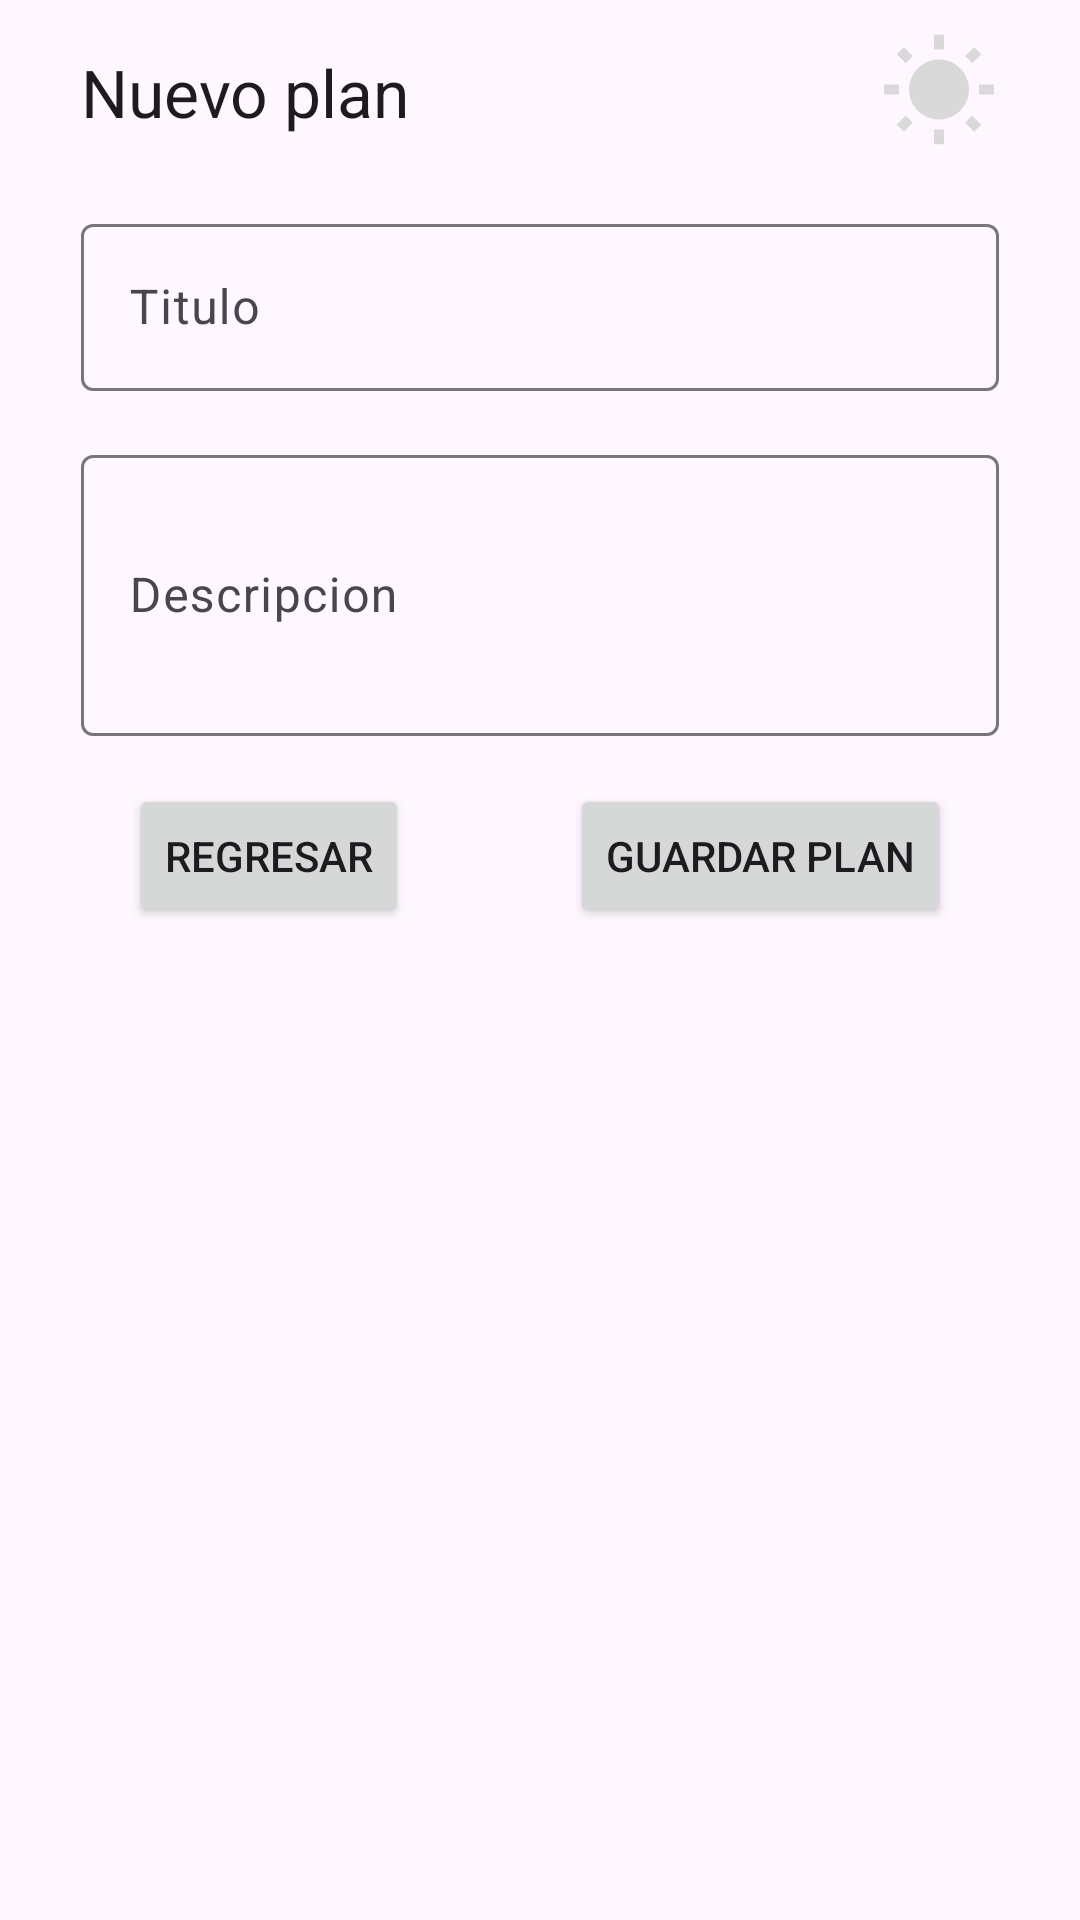

Named icons in this screenshot (1080 x 1920) and their centers, [x,y]:
sunny: [939,89]
